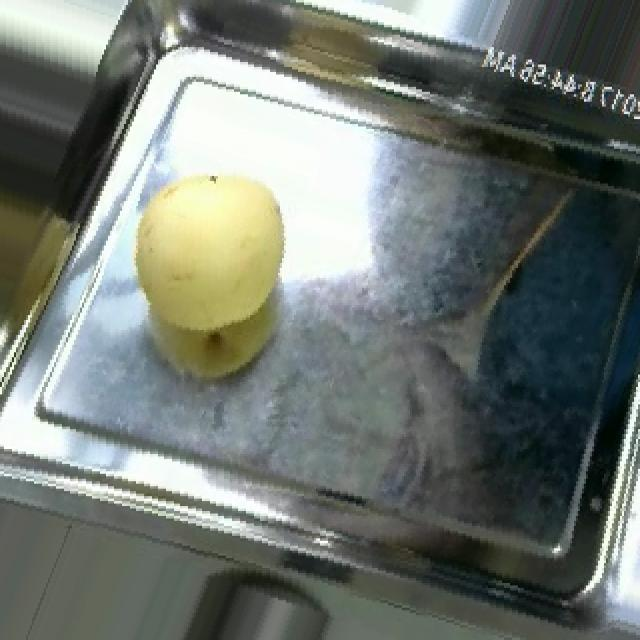Fruit: (102, 144, 314, 404), (0, 146, 100, 387)
